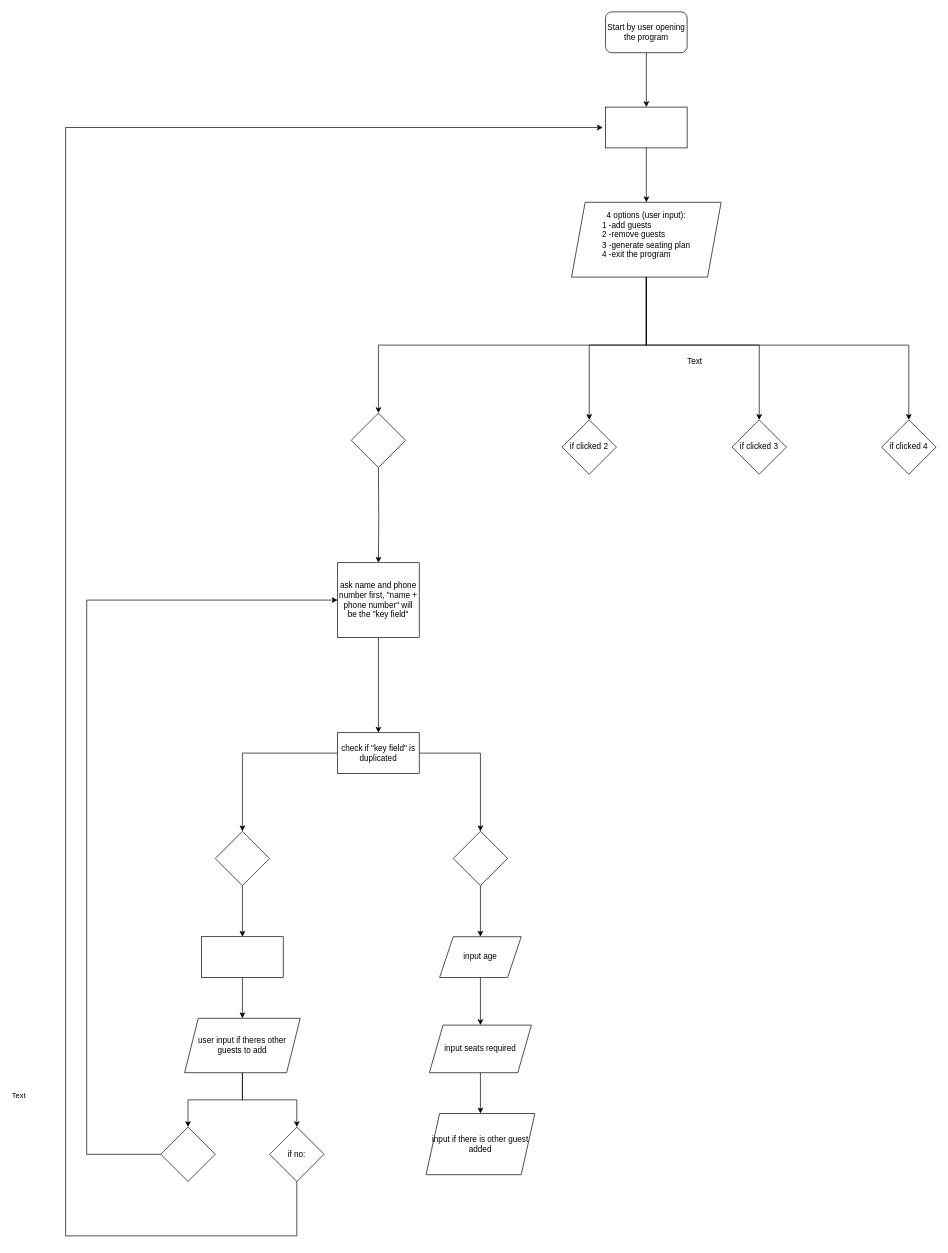
The diagram is 948 pixels wide and 1253 high, and some of its shapes have lost their labels. The shapes that lost their labels are listed below. From the top down, each one's centre as x and y in pixels, then its label:
point 646,127: MENU (IMPORTANT)
point 378,440: if clicked 1
point 242,858: if duplicated:
point 480,858: if NOT duplicated:
point 242,957: print("already regisgtered")
point 187,1154: if yes:
